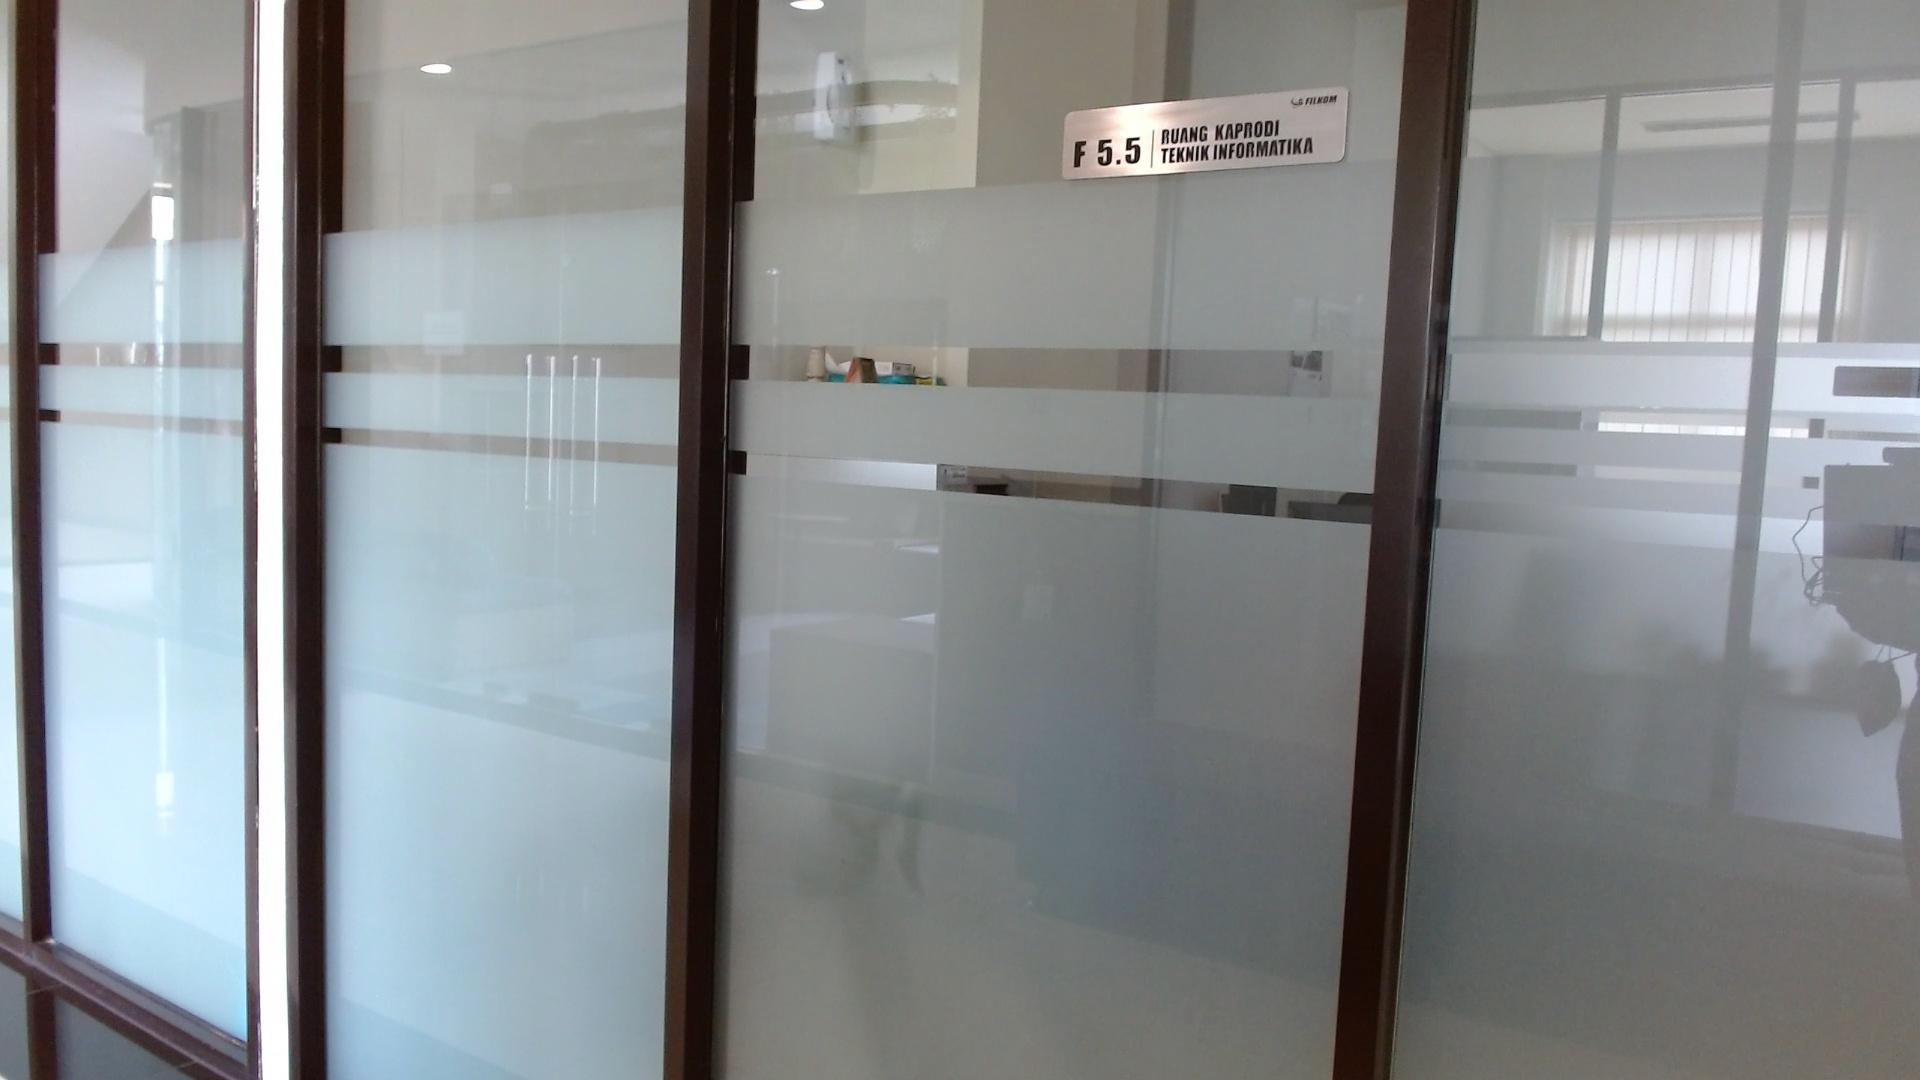plate: (1062, 86, 1350, 179)
